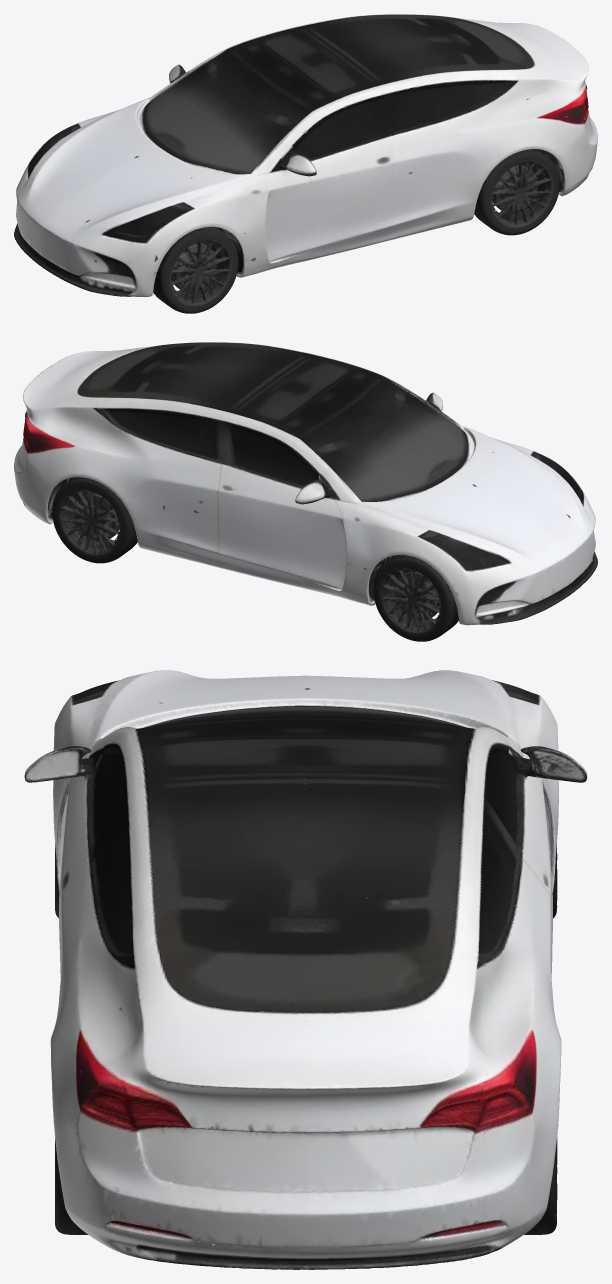
File: Meshy_AI_Top_View_of_a_White_C_0317032649_texture.glb
The picture shows the model from 3 angles, top to bottom: view 1: azimuth 30°, elevation 25°; view 2: azimuth 150°, elevation 25°; view 3: azimuth 270°, elevation 25°; orthographic projection. The views are drawn at different scales.
Size of the model in its own units: 1.9 by 0.5663 by 0.8691.
1 material, 1 textured.
